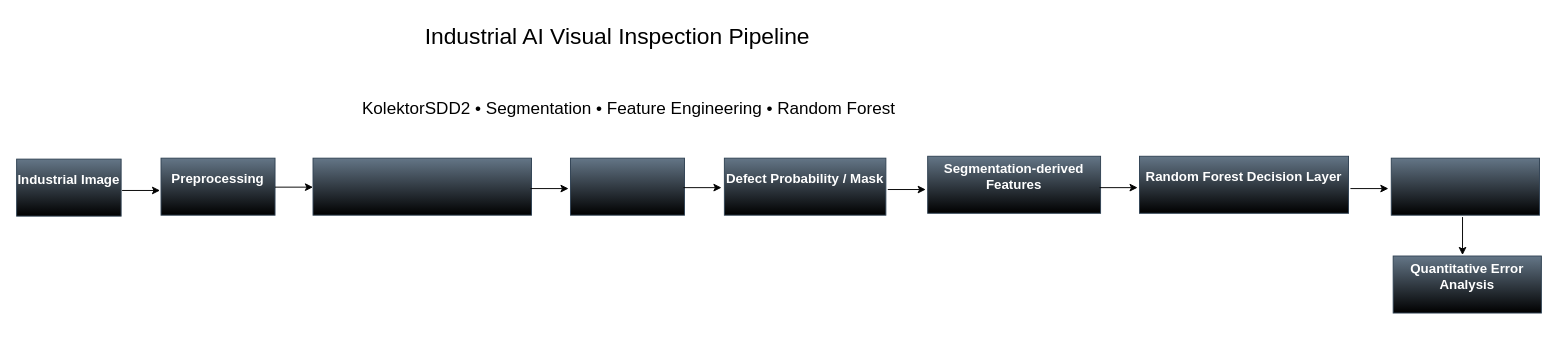
The diagram is 1558 pixels wide and 340 high, and some of its shapes have lost their labels. Here are the shapes that lost their labels. From the top down, the centre of each, then its label:
pixel 422 186: Multi-scale Candidate Generation
pixel 627 186: U-Net Segmentation
pixel 1464 186: Healthy / Defective
